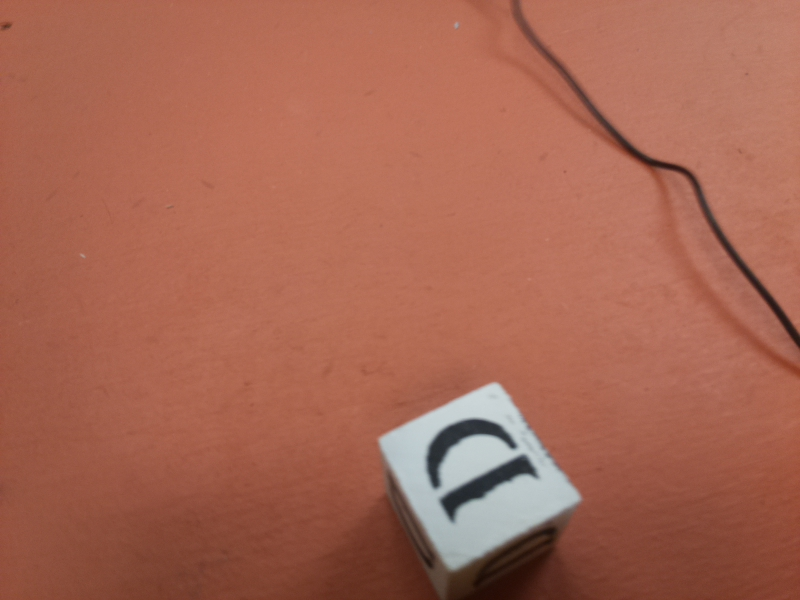blockD: (371, 377, 582, 594)
